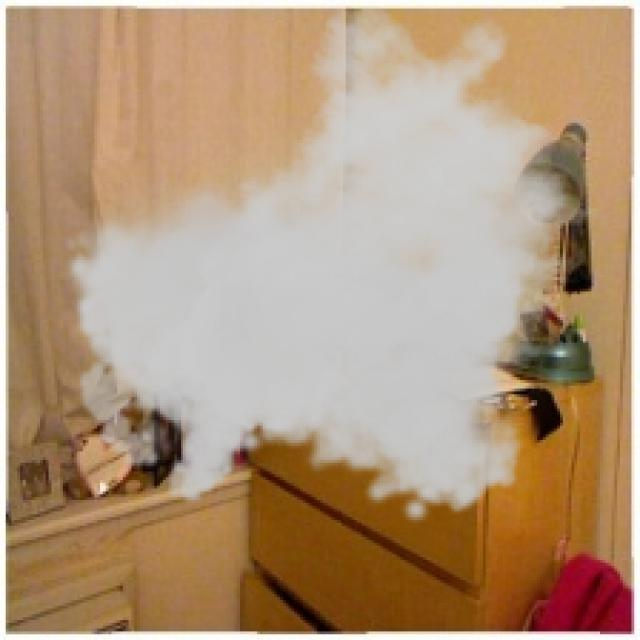smoke: (63, 3, 617, 526)
